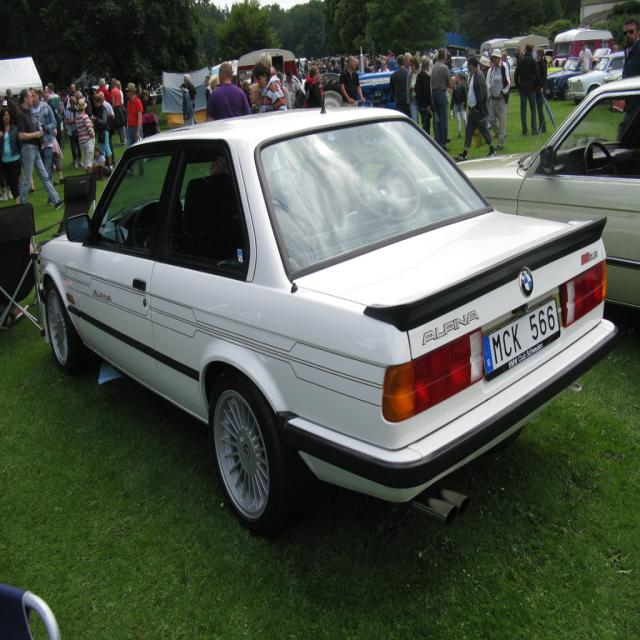car: (40, 106, 619, 538)
